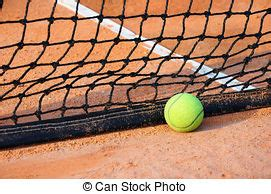tennis_ball: (164, 92, 204, 133)
